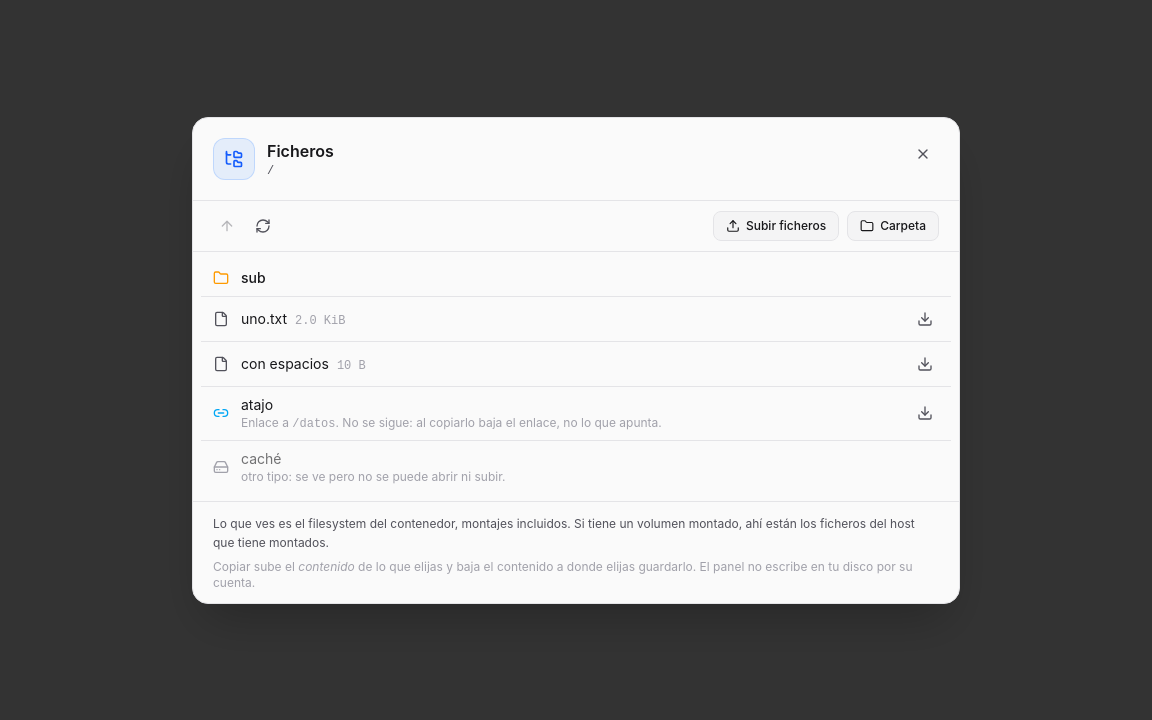
ContainerFilesModal › un directorio se puede abrir y el padre aparece para volver
The width and height of the screenshot is (1152, 720).
Click the button "sub" at x=253, y=278, box [241,268,266,288]
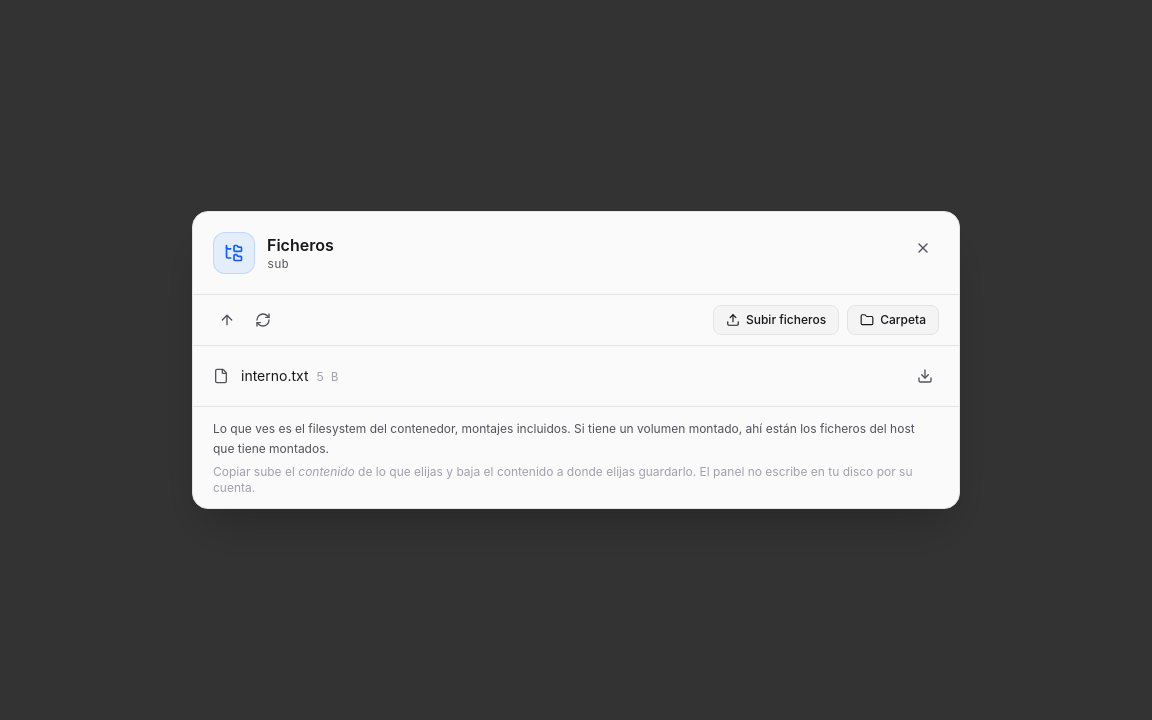
Check: the button "interno.txt" is shown, box [241,366,308,386]
